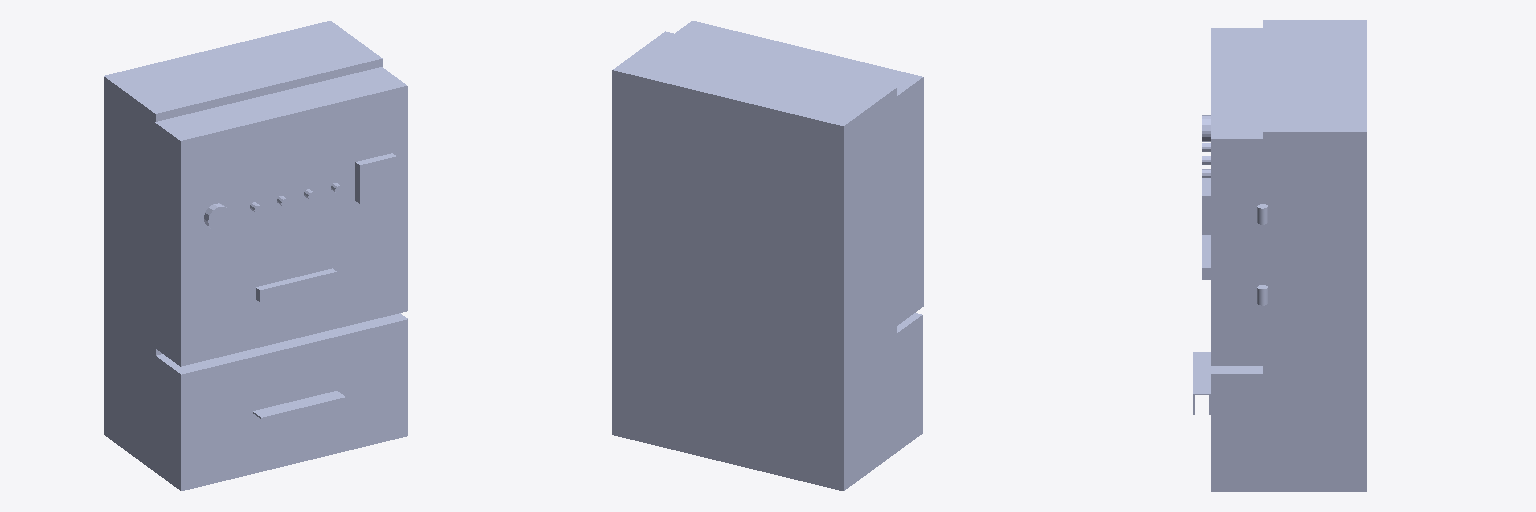
The robot description file, URDF, robot "panel":
<robot
  name="panel">
  <link
    name="base_link">
    <inertial>
      <origin
        xyz="-0.059734 0.0071587 -0.022133"
        rpy="0 0 0" />
      <mass
        value="14.025" />
      <inertia
        ixx="2.8304E-05"
        ixy="-2.9688E-05"
        ixz="-2.473E-05"
        iyy="8.1382E-05"
        iyz="-1.0057E-05"
        izz="9.2931E-05" />
    </inertial>
    <visual>
      <origin
        xyz="0 0 0"
        rpy="0 0 0" />
      <geometry>
        <mesh
          filename="package://panel/meshes/base_link.STL" />
      </geometry>
      <material
        name="">
        <color
          rgba="0.79216 0.81961 0.93333 1" />
      </material>
    </visual>
    <collision>
      <origin
        xyz="0 0 0"
        rpy="0 0 0" />
      <geometry>
        <mesh
          filename="package://panel/meshes/base_link.STL" />
      </geometry>
    </collision>
  </link>
  <link
    name="case_cover_link">
    <inertial>
      <origin
        xyz="-0.15308 -0.03104 0.029242"
        rpy="0 0 0" />
      <mass
        value="4.5006" />
      <inertia
        ixx="4.7042E-06"
        ixy="1.4632E-06"
        ixz="6.1898E-06"
        iyy="3.3586E-05"
        iyz="-2.7951E-07"
        izz="3.5926E-05" />
    </inertial>
    <visual>
      <origin
        xyz="0 0 0"
        rpy="0 0 0" />
      <geometry>
        <mesh
          filename="package://panel/meshes/case_cover_link.STL" />
      </geometry>
      <material
        name="">
        <color
          rgba="0.79216 0.81961 0.93333 1" />
      </material>
    </visual>
    <collision>
      <origin
        xyz="0 0 0"
        rpy="0 0 0" />
      <geometry>
        <mesh
          filename="package://panel/meshes/case_cover_link.STL" />
      </geometry>
    </collision>
  </link>
  <joint
    name="case_cover_joint"
    type="revolute">
    <origin
      xyz="0.09269 -0.0295 0.1071"
      rpy="1.5708 0 0" />
    <parent
      link="base_link" />
    <child
      link="case_cover_link" />
    <axis
      xyz="0 0 0" />
    <limit
      lower="-1.57"
      upper="1.57"
      effort="0"
      velocity="0" />
  </joint>
  <link
    name="small_shelf_link">
    <inertial>
      <origin
        xyz="-6.93889390390723E-18 -0.0178125630289301 0.0912591458081848"
        rpy="0 0 0" />
      <mass
        value="0.926162" />
      <inertia
        ixx="0"
        ixy="0"
        ixz="0"
        iyy="0"
        iyz="0"
        izz="0" />
    </inertial>
    <visual>
      <origin
        xyz="0 0 0"
        rpy="0 0 0" />
      <geometry>
        <mesh
          filename="package://panel/meshes/small_shelf_link.STL" />
      </geometry>
      <material
        name="">
        <color
          rgba="0.792156862745098 0.819607843137255 0.933333333333333 1" />
      </material>
    </visual>
    <collision>
      <origin
        xyz="0 0 0"
        rpy="0 0 0" />
      <geometry>
        <mesh
          filename="package://panel/meshes/small_shelf_link.STL" />
      </geometry>
    </collision>
  </link>
  <joint
    name="small_shelf_joint"
    type="prismatic">
    <origin
      xyz="-0.06081 -0.0975 -0.0048573"
      rpy="1.5708 0 3.1416" />
    <parent
      link="base_link" />
    <child
      link="small_shelf_link" />
    <axis
      xyz="0 0 0" />
    <limit
      lower="0"
      upper="0.1"
      effort="0"
      velocity="0" />
  </joint>
  <link
    name="large_shelf_link">
    <inertial>
      <origin
        xyz="6.93889390390723E-18 0.00201303993480031 -0.0995843520782396"
        rpy="0 0 0" />
      <mass
        value="3.23928" />
      <inertia
        ixx="0"
        ixy="0"
        ixz="0"
        iyy="0"
        iyz="0"
        izz="0" />
    </inertial>
    <visual>
      <origin
        xyz="0 0 0"
        rpy="0 0 0" />
      <geometry>
        <mesh
          filename="package://panel/meshes/large_shelf_link.STL" />
      </geometry>
      <material
        name="">
        <color
          rgba="0.792156862745098 0.819607843137255 0.933333333333333 1" />
      </material>
    </visual>
    <collision>
      <origin
        xyz="0 0 0"
        rpy="0 0 0" />
      <geometry>
        <mesh
          filename="package://panel/meshes/large_shelf_link.STL" />
      </geometry>
    </collision>
  </link>
  <joint
    name="large_shelf_joint"
    type="prismatic">
    <origin
      xyz="-0.05981 -0.1075 -0.16286"
      rpy="1.5708 0 0" />
    <parent
      link="base_link" />
    <child
      link="large_shelf_link" />
    <axis
      xyz="0 0 0" />
    <limit
      lower="0"
      upper="0.1"
      effort="0"
      velocity="0" />
  </joint>
</robot>

--- Render facts (derived) ---
The picture shows the robot from 3 angles, left to right: view 1: azimuth 30°, elevation 25°; view 2: azimuth 150°, elevation 25°; view 3: azimuth 270°, elevation 25°; orthographic projection.
Robot: panel — 4 links, 3 joints (1 revolute, 2 prismatic); root link base_link; default pose: every joint at zero.
Links seen in each view (by area): view 1: case_cover_link, base_link, large_shelf_link, small_shelf_link; view 2: base_link, case_cover_link; view 3: base_link, case_cover_link, large_shelf_link.
Boxes of the visible links, <box> form: case_cover_link: <box>155,67,407,366</box>; base_link: <box>104,21,407,490</box>; large_shelf_link: <box>207,355,382,467</box>; small_shelf_link: <box>256,268,336,331</box>; base_link: <box>612,31,922,490</box>; case_cover_link: <box>675,21,923,325</box>; base_link: <box>1211,20,1366,491</box>; case_cover_link: <box>1202,28,1267,365</box>; large_shelf_link: <box>1193,352,1210,414</box>.
Size in the robot's own frame: 0.307 by 0.195 by 0.445 metres.
Meshes: 4 distinct files referenced, 4 mesh visuals loaded (4 binary STL).